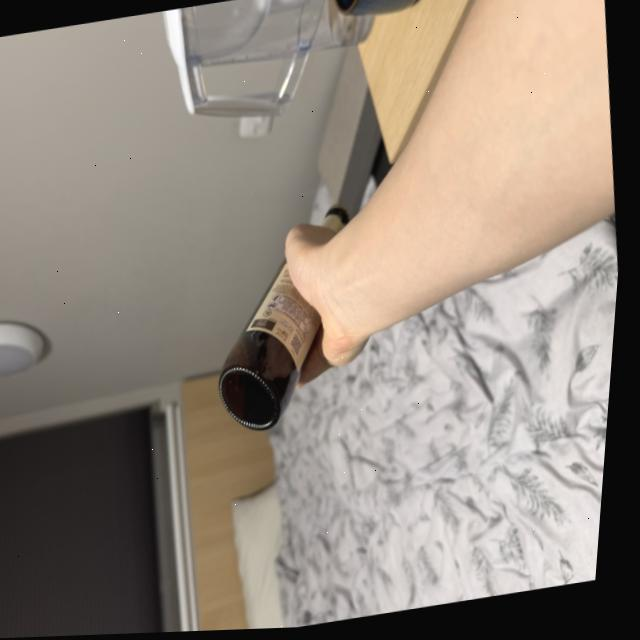beer: (195, 203, 379, 443)
